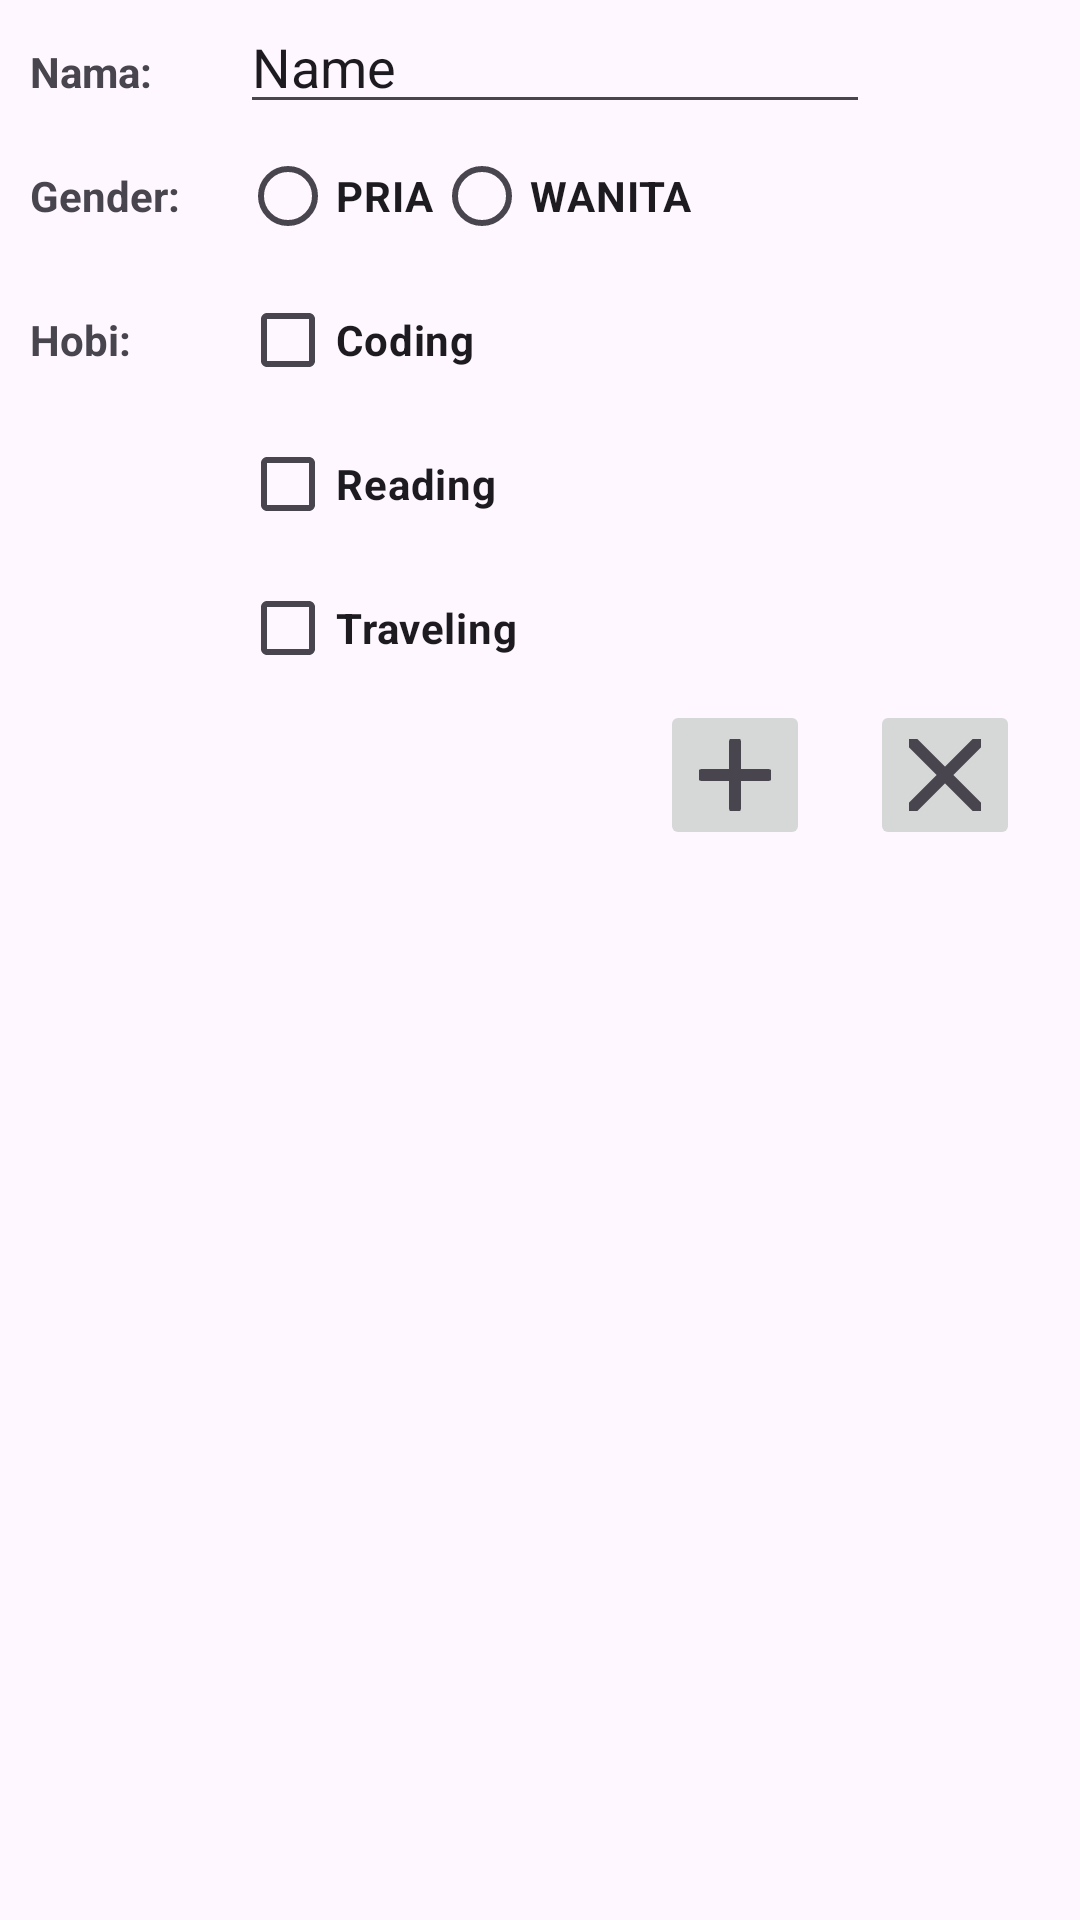

Locate icon controls on the screen. Image size 1080 x 1920, boxes as bbox=[x1, y1, x2, y2].
cross: bbox=[882, 718, 1008, 832]
plus: bbox=[672, 718, 798, 832]
